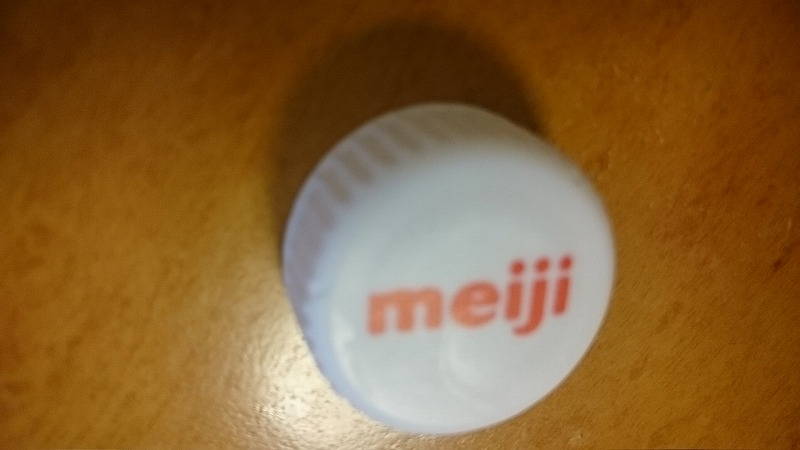B: (277, 93, 626, 439)
